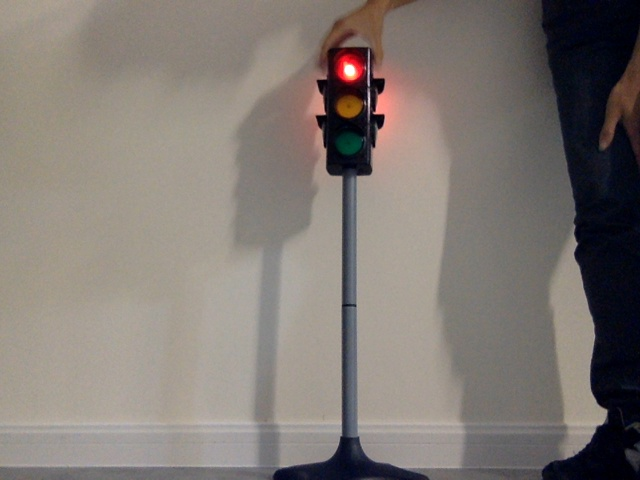red: (328, 52, 367, 162)
